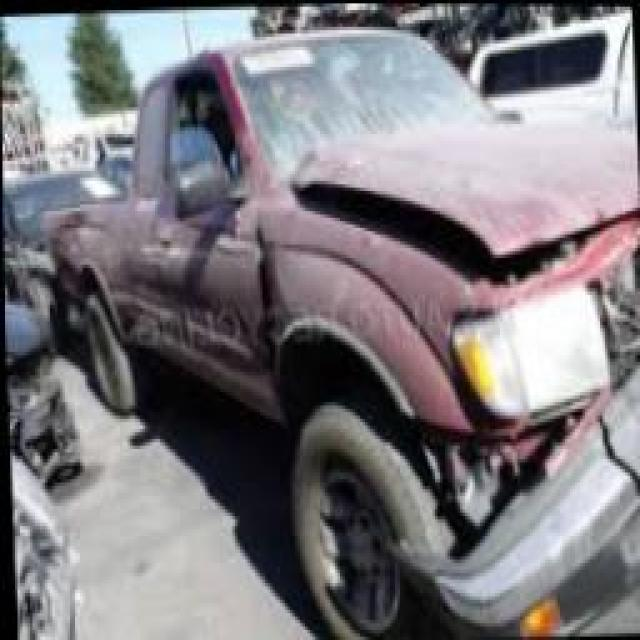Bonnet: (278, 119, 639, 290)
Bumper: (387, 214, 640, 636)
Fender: (244, 197, 508, 440), (41, 206, 136, 336)
Windshield: (232, 35, 499, 172)
